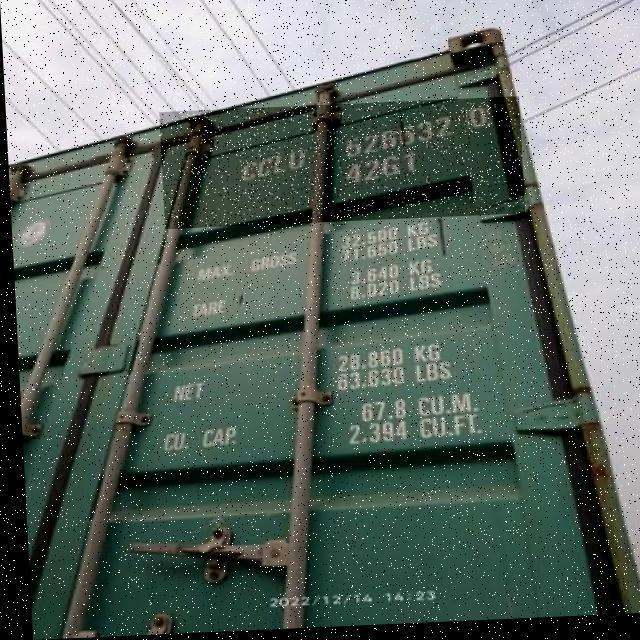container_number_h: (158, 101, 523, 231)
